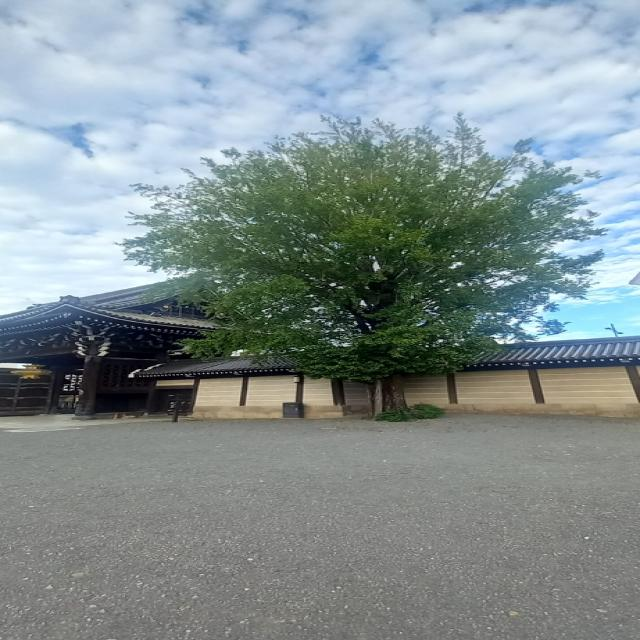ginkgo: (109, 107, 615, 421)
